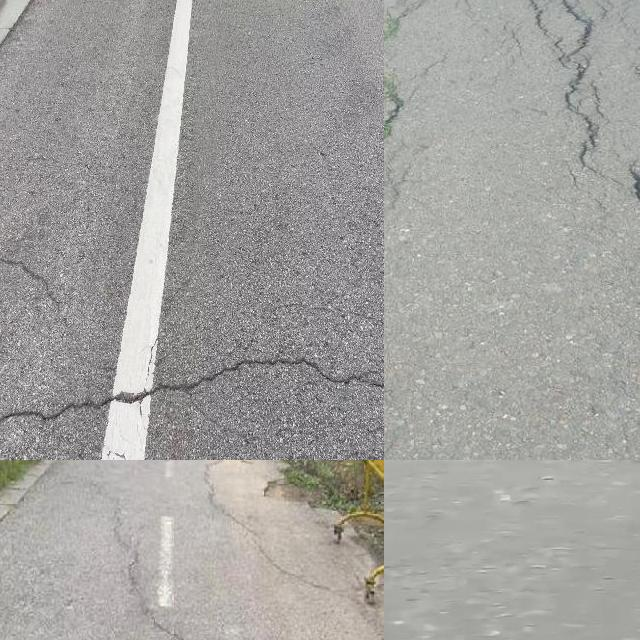Melintang: (0, 342, 384, 442)
Memanjang: (96, 495, 199, 640), (534, 0, 600, 160)
